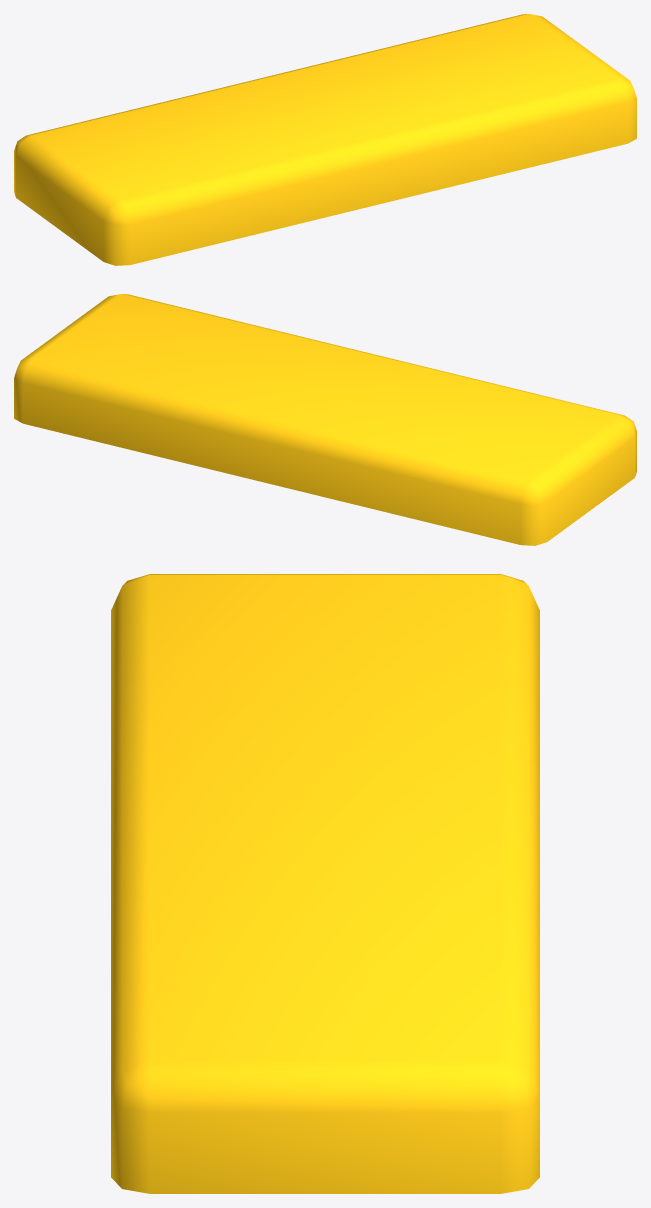
The model's file is button_rectangle_yellow.glb.
3 views of the same model, one above another, from view 1: azimuth 30°, elevation 25°; view 2: azimuth 150°, elevation 25°; view 3: azimuth 270°, elevation 25° (orthographic). The views are drawn at different scales.
Parts seen in each view (by area): view 1: Cube.006; view 2: Cube.006; view 3: Cube.006.
Part boxes in pixels (x1,y1,x2,y2): Cube.006: (14, 14, 636, 265); Cube.006: (14, 294, 636, 545); Cube.006: (111, 574, 539, 1193).
Size of what is drawn, in the model's own units: 0.3845 by 0.0403 by 0.1345.
Materials: 1 (1 with a texture image).
